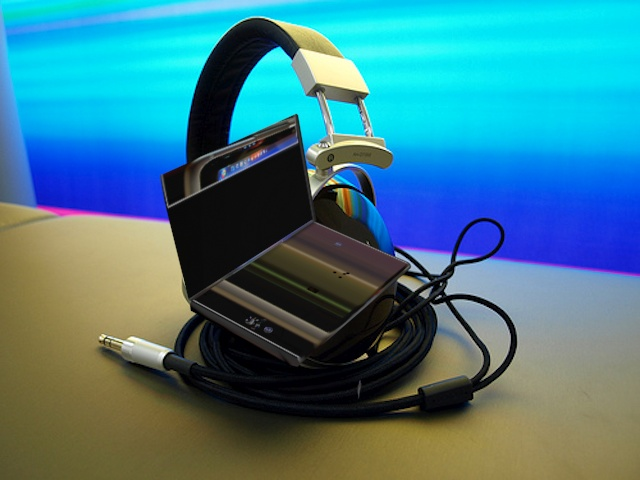laptop_computer: (155, 112, 416, 400)
